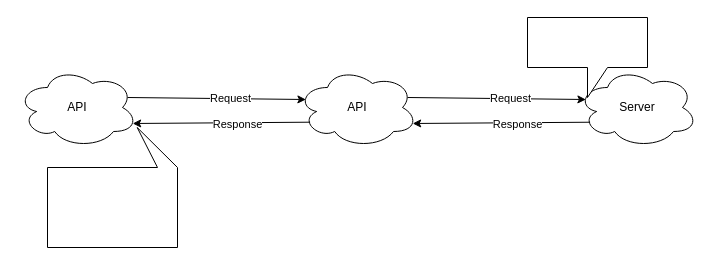
The diagram is 715 pixels wide and 265 high, and some of its shapes have lost their labels. The shapes that lost their labels are listed below. From the top down, each one's centre as x and y in pixels, then its label:
At (x=587, y=57): "Geting and proessing request and send to controllers".
At (x=112, y=187): "Geting and rendering server response with API data structure".
